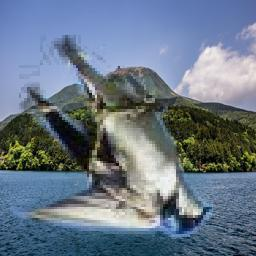Swallow: (11, 35, 214, 241)
